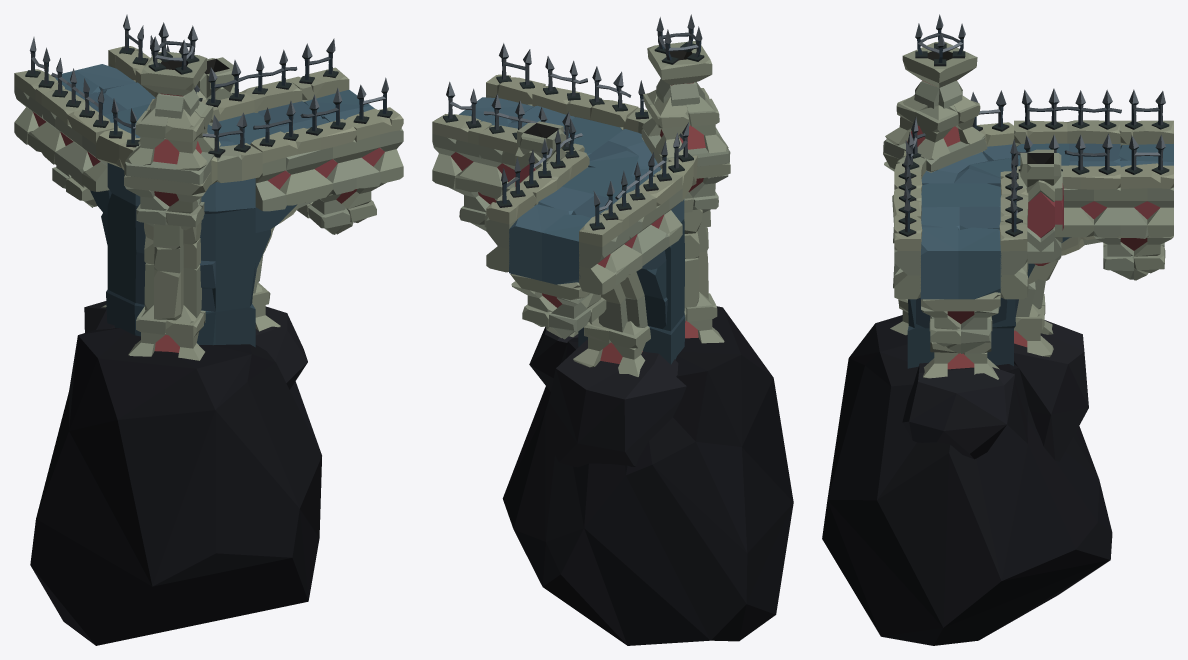
Rendered from bridge_L_01.fbx.
3 renders of one model, left to right at view 1: azimuth 30°, elevation 25°; view 2: azimuth 150°, elevation 25°; view 3: azimuth 270°, elevation 25°, orthographic.
Visible parts, largest first — view 1: bridge_L_01; view 2: bridge_L_01; view 3: bridge_L_01.
Boxes of the visible parts, left/top/right/bottom form: bridge_L_01: left=14, top=14, right=403, bottom=645; bridge_L_01: left=432, top=14, right=793, bottom=645; bridge_L_01: left=822, top=14, right=1173, bottom=645.
Bounding box in the file's own units: 664 × 1202 × 661.
